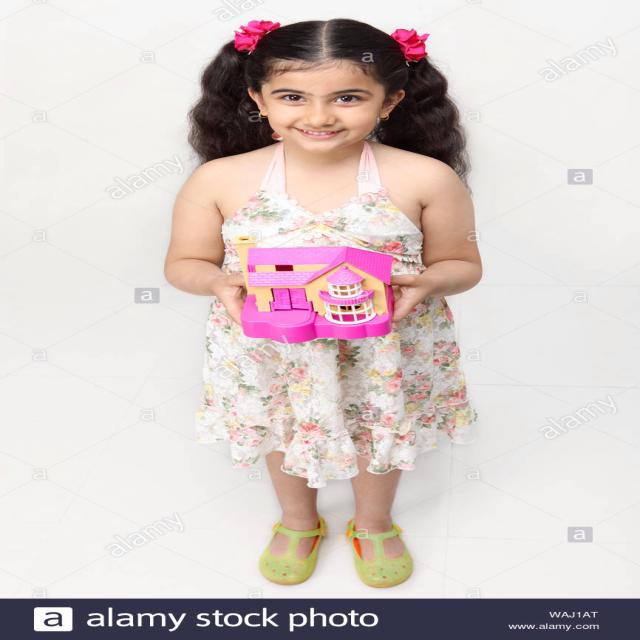child: (160, 3, 508, 601)
